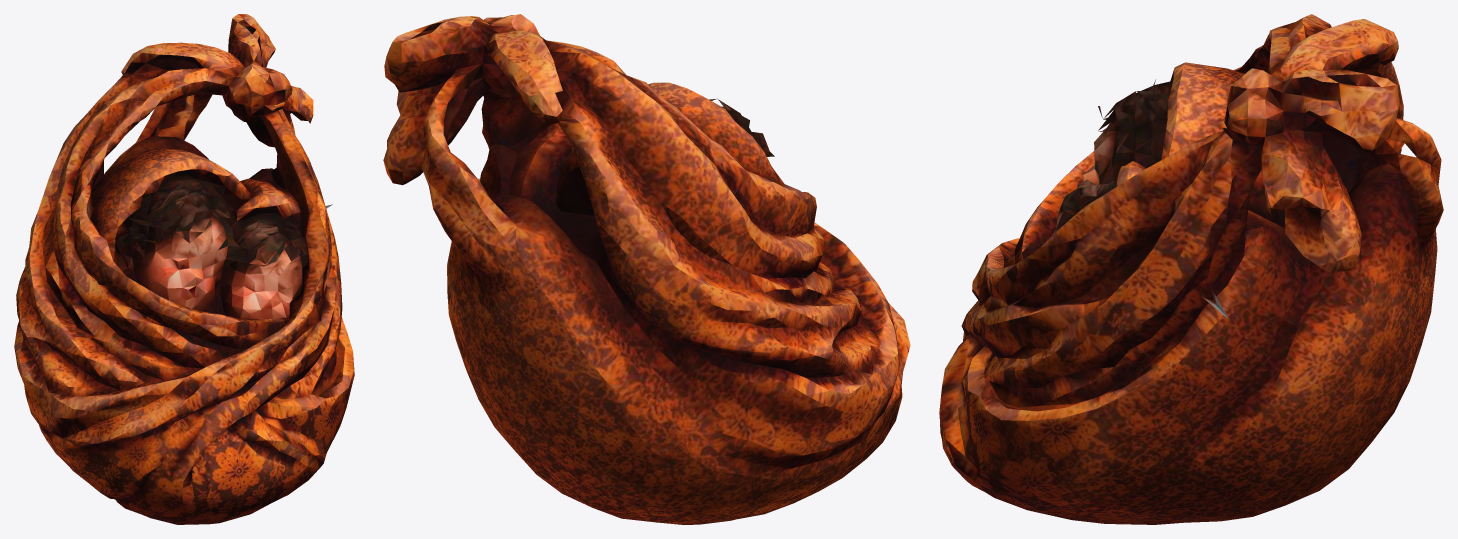
File: wewe-gendongan.glb
The picture shows the model from 3 angles, left to right: view 1: azimuth 30°, elevation 25°; view 2: azimuth 150°, elevation 25°; view 3: azimuth 270°, elevation 25°; orthographic projection. The views are drawn at different scales.
Parts seen in each view (by area): view 1: gendong-hp; view 2: gendong-hp; view 3: gendong-hp.
Part boxes in pixels (<box>): gendong-hp: <box>14,14,354,524</box>; gendong-hp: <box>383,14,910,524</box>; gendong-hp: <box>939,14,1443,524</box>.
Bounding box in the file's own units: 0.8561 × 0.9995 × 0.8633.
Materials: 1 (1 with a texture image).
